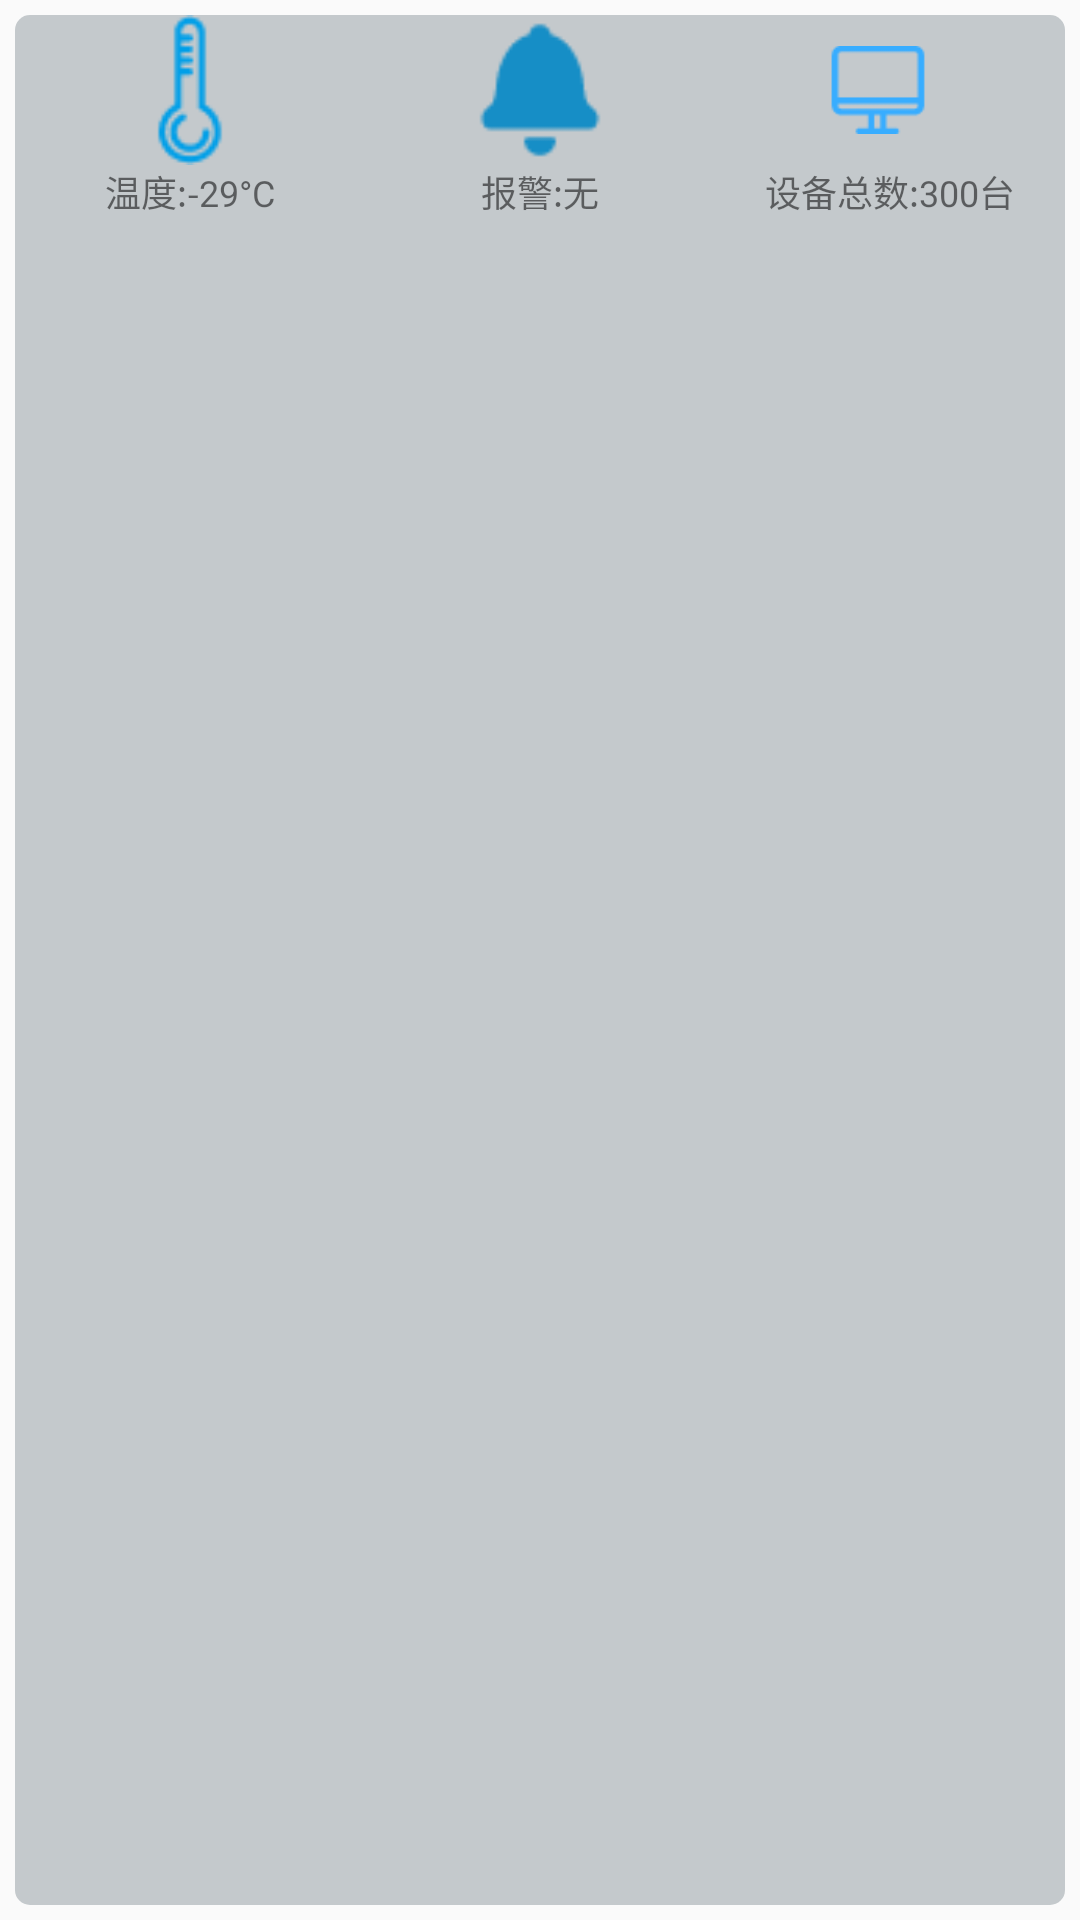

Icon bounding boxes for this 1080 x 1920 phone screenshot, format (x1, y1, x2, y2):
weatherglass: (158, 15, 222, 165)
